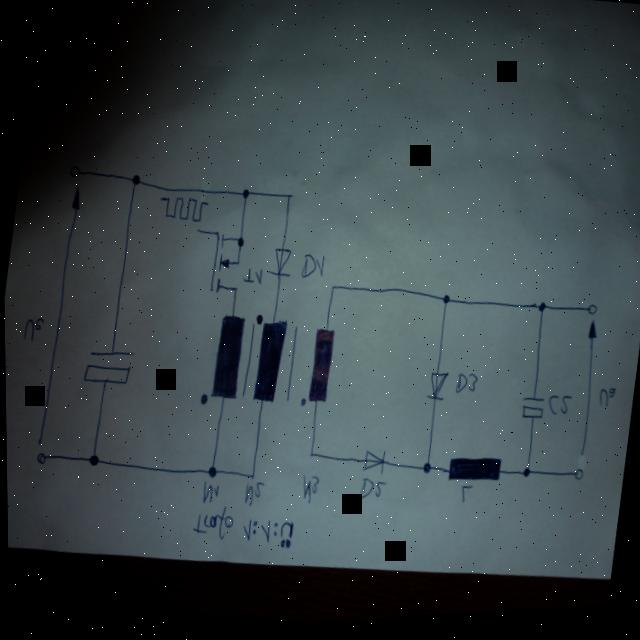capacitor: (80, 347, 134, 392), (517, 400, 544, 429)
diode: (267, 249, 293, 285), (423, 375, 448, 411), (357, 452, 386, 483)
inductor: (444, 455, 502, 495)
junction: (417, 464, 433, 485), (85, 453, 99, 472), (129, 175, 141, 191), (205, 467, 217, 483), (534, 308, 547, 322), (518, 473, 530, 488), (439, 299, 451, 313), (239, 190, 250, 204), (304, 453, 314, 464), (327, 288, 336, 300), (284, 196, 293, 205), (247, 475, 254, 485)
terminal: (32, 451, 48, 469), (570, 475, 584, 492), (67, 165, 81, 182), (584, 312, 597, 325), (193, 231, 200, 239)
text: (183, 505, 298, 559), (355, 480, 386, 509), (298, 254, 326, 286), (295, 477, 319, 510), (543, 400, 570, 427), (241, 481, 264, 512), (451, 377, 476, 404), (20, 317, 43, 345), (198, 484, 219, 511), (241, 268, 264, 292), (594, 393, 616, 418), (455, 488, 475, 515)
transformer: (195, 305, 339, 428)
transistor: (204, 231, 246, 304)
